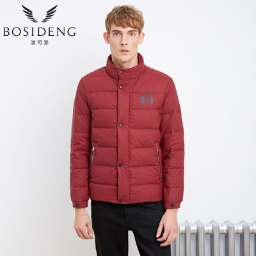face: (104, 4, 144, 64)
